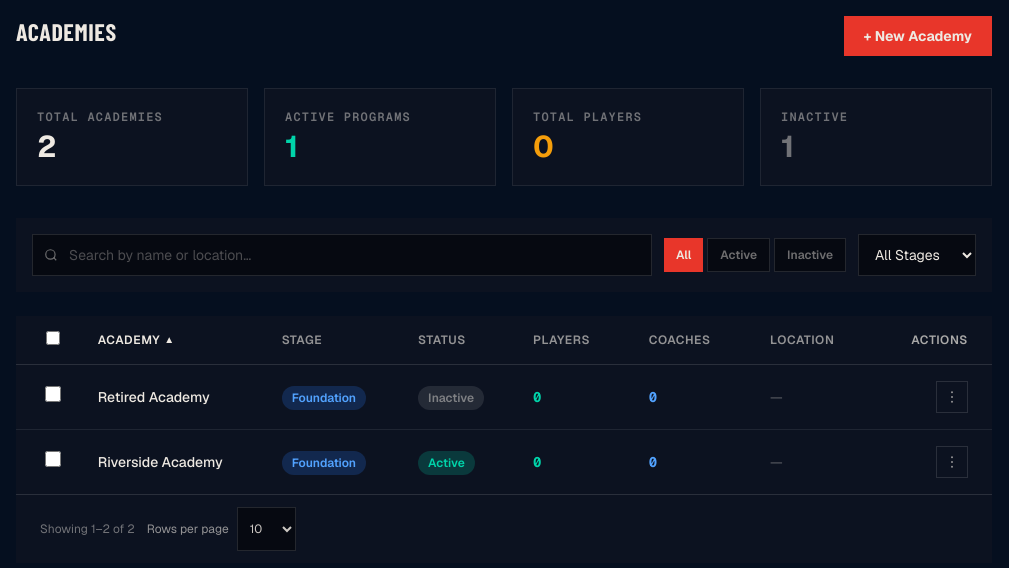
AcademyClient › clicking the Active programs stat card filters the list to Active academies
Expected: the text "Riverside Academy" is shown, [98, 453, 223, 471]
Step 1. Click the button "Active programs 1" → (380, 137), box [264, 88, 496, 186]
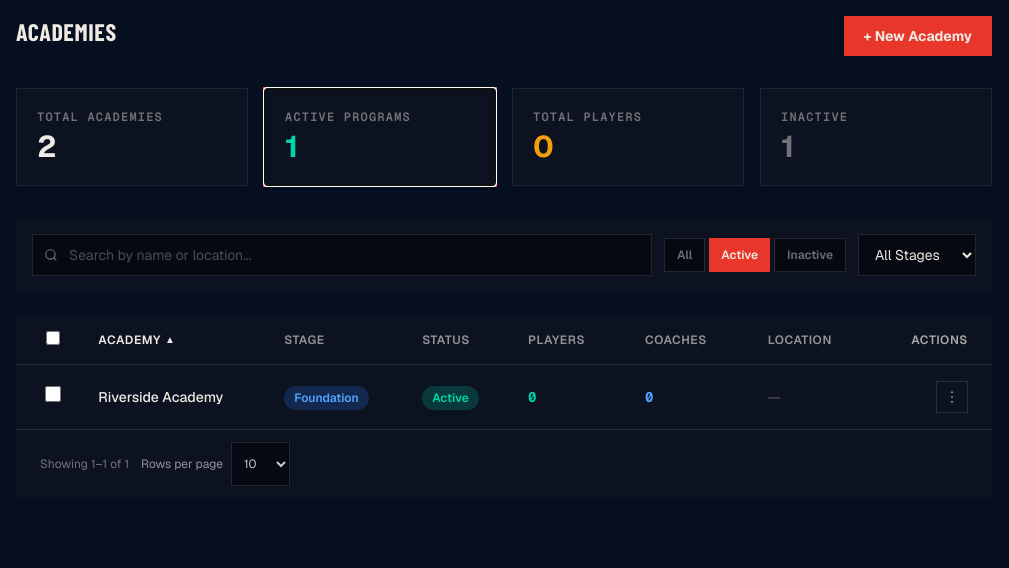
Expected: the text "Riverside Academy" is shown, [98, 388, 223, 406]
Result: the text "Retired Academy" is gone
